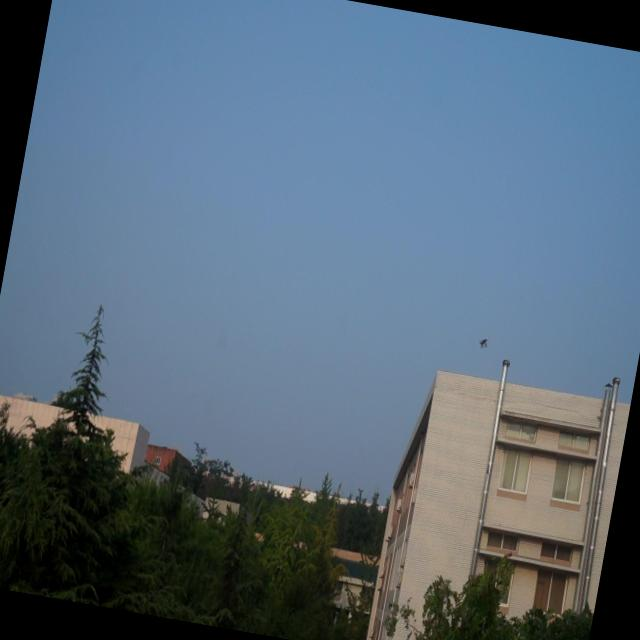drone: (476, 333, 491, 353)
